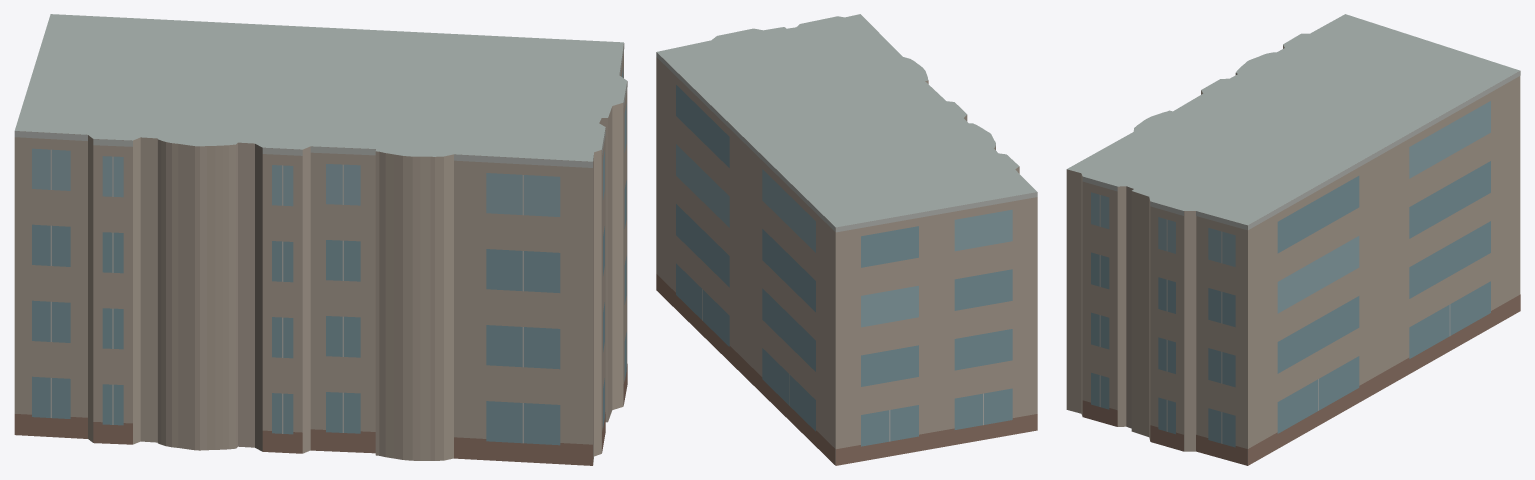
The model's file is survey-upis-32628278.glb.
The picture shows the model from 3 angles, left to right: view 1: azimuth 30°, elevation 25°; view 2: azimuth 150°, elevation 25°; view 3: azimuth 270°, elevation 25°; orthographic projection. The views are drawn at different scales.
Visible parts, largest first — view 1: survey-upis-32628278.tmp; view 2: survey-upis-32628278.tmp; view 3: survey-upis-32628278.tmp.
Part boxes in pixels (box(x1,y1,x2,y2)): survey-upis-32628278.tmp: box(14, 14, 627, 465); survey-upis-32628278.tmp: box(656, 14, 1037, 465); survey-upis-32628278.tmp: box(1066, 14, 1520, 465).
Size of the model in its own units: 22.06 by 11.7 by 20.02.
